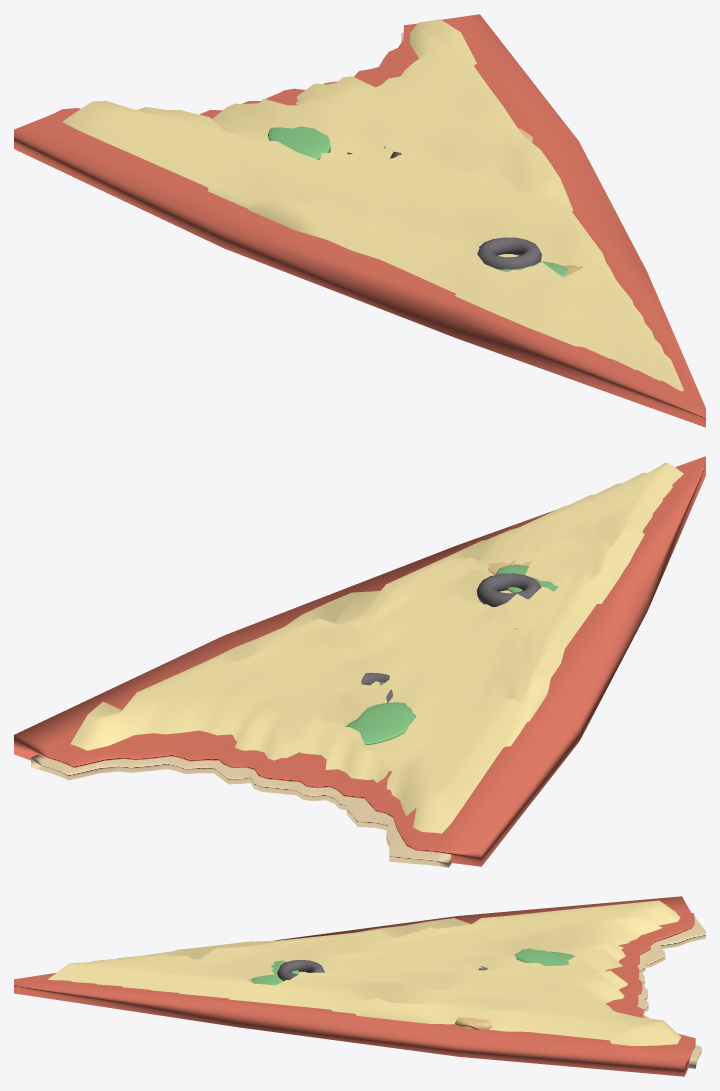
File: EatsaPizzaSlice2.glb
3 views of the same model, one above another, from view 1: azimuth 30°, elevation 25°; view 2: azimuth 150°, elevation 25°; view 3: azimuth 270°, elevation 25° (orthographic). The views are drawn at different scales.
Visible parts, largest first — view 1: Cheese, Sauce, Olives, Basil; view 2: Cheese, Sauce, Dough, Basil, Olives; view 3: Cheese, Sauce, Dough, Basil, Olives, Toasty.
Boxes of the visible parts, x1,y1,x2,y2 form: Cheese: (62, 19, 683, 391); Sauce: (14, 14, 705, 427); Olives: (347, 146, 541, 269); Basil: (268, 126, 568, 276); Cheese: (70, 462, 683, 833); Sauce: (14, 456, 705, 866); Dough: (31, 754, 451, 867); Basil: (345, 565, 558, 744); Olives: (361, 573, 540, 702); Cheese: (48, 900, 681, 1045); Sauce: (14, 896, 695, 1076); Dough: (637, 913, 705, 1068); Basil: (251, 948, 574, 985); Olives: (277, 960, 487, 981); Toasty: (249, 979, 492, 1029).
Size of the model in its own units: 6.78 by 0.6089 by 11.93.
